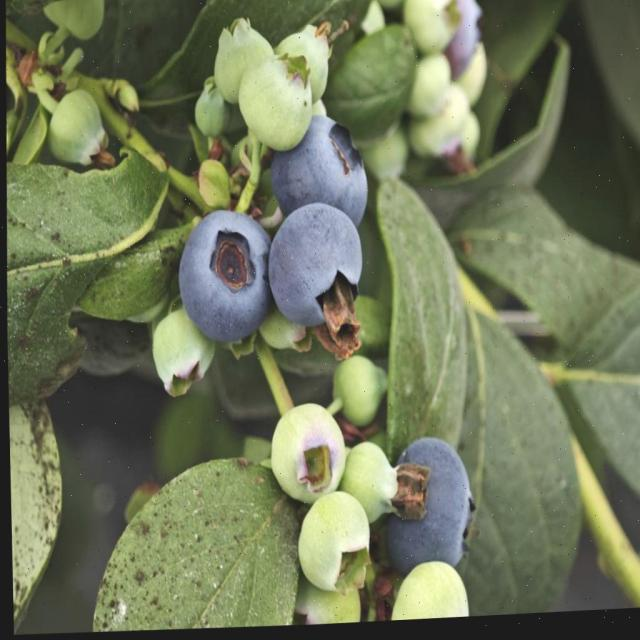RipeBlueBerry: (174, 207, 274, 351), (265, 200, 366, 338), (378, 439, 473, 579), (266, 114, 371, 232)
UnripeBlueBerry: (266, 401, 348, 508), (293, 489, 372, 599), (236, 56, 316, 156), (150, 311, 218, 401), (340, 443, 406, 529), (45, 89, 110, 170), (331, 354, 392, 432)
